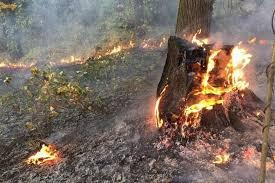fire: (189, 39, 255, 93), (22, 141, 60, 165), (150, 84, 168, 127), (210, 142, 233, 165)
